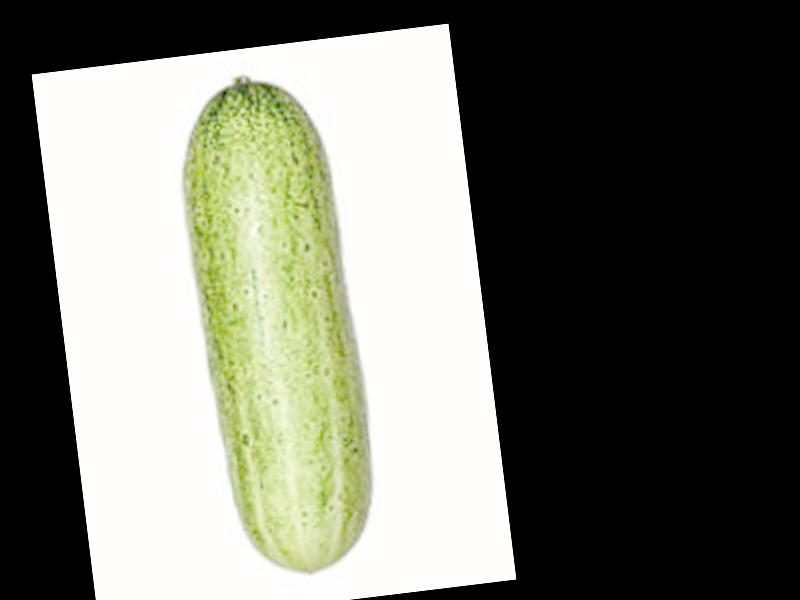Cucumber: (171, 66, 382, 584)
